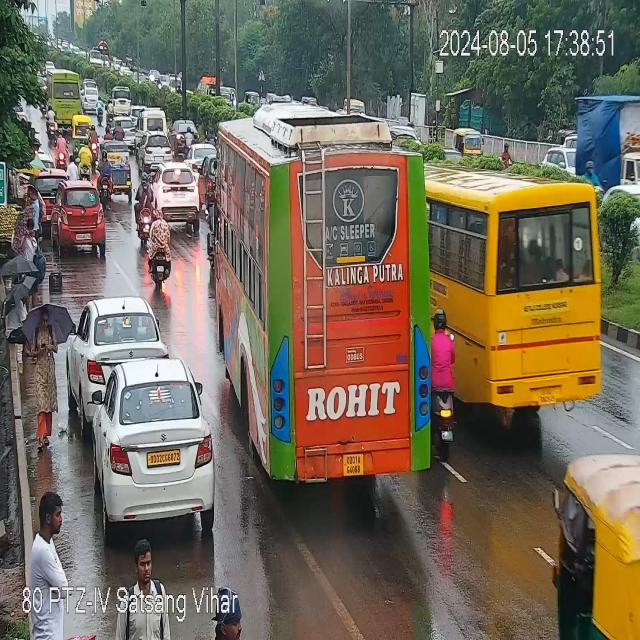2-wheelers: (147, 213, 174, 285), (133, 179, 156, 242)
auto: (561, 460, 636, 640), (100, 146, 138, 196), (449, 124, 488, 160), (70, 114, 94, 144)
bus: (230, 117, 430, 489), (430, 162, 610, 420), (46, 71, 85, 123)
car: (74, 362, 216, 527), (70, 298, 164, 394), (49, 188, 108, 250), (157, 164, 206, 223), (136, 132, 172, 164), (135, 109, 170, 134), (112, 119, 144, 144), (107, 88, 134, 117), (174, 118, 199, 147), (192, 141, 218, 164)
pedestrian: (31, 493, 72, 596), (114, 546, 170, 594), (5, 288, 37, 362), (19, 227, 45, 300), (28, 187, 44, 232)
truck: (571, 92, 640, 193)
